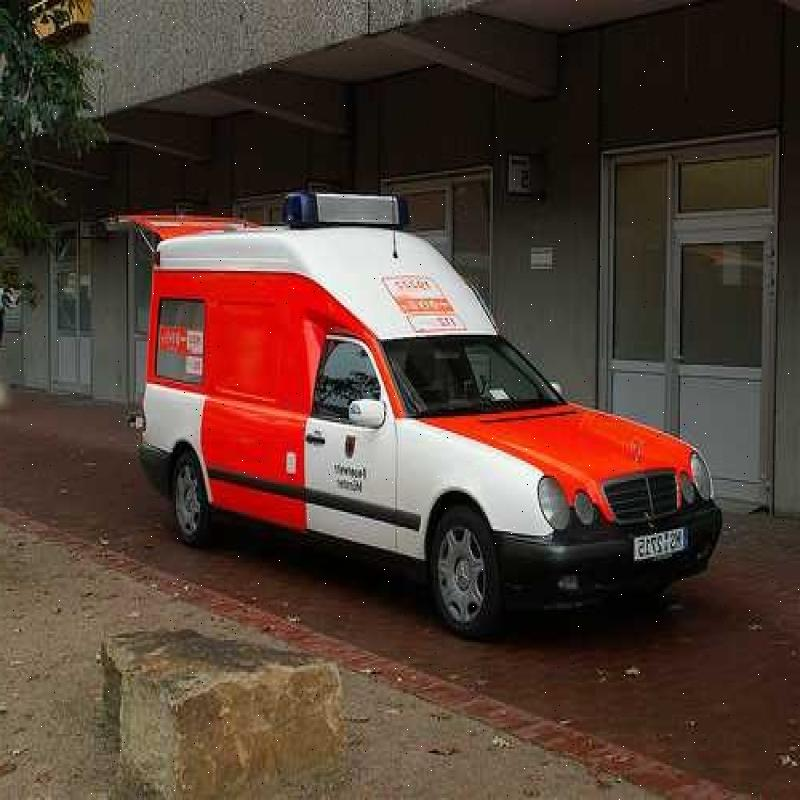AmbulanceSiren: (268, 179, 427, 244)
